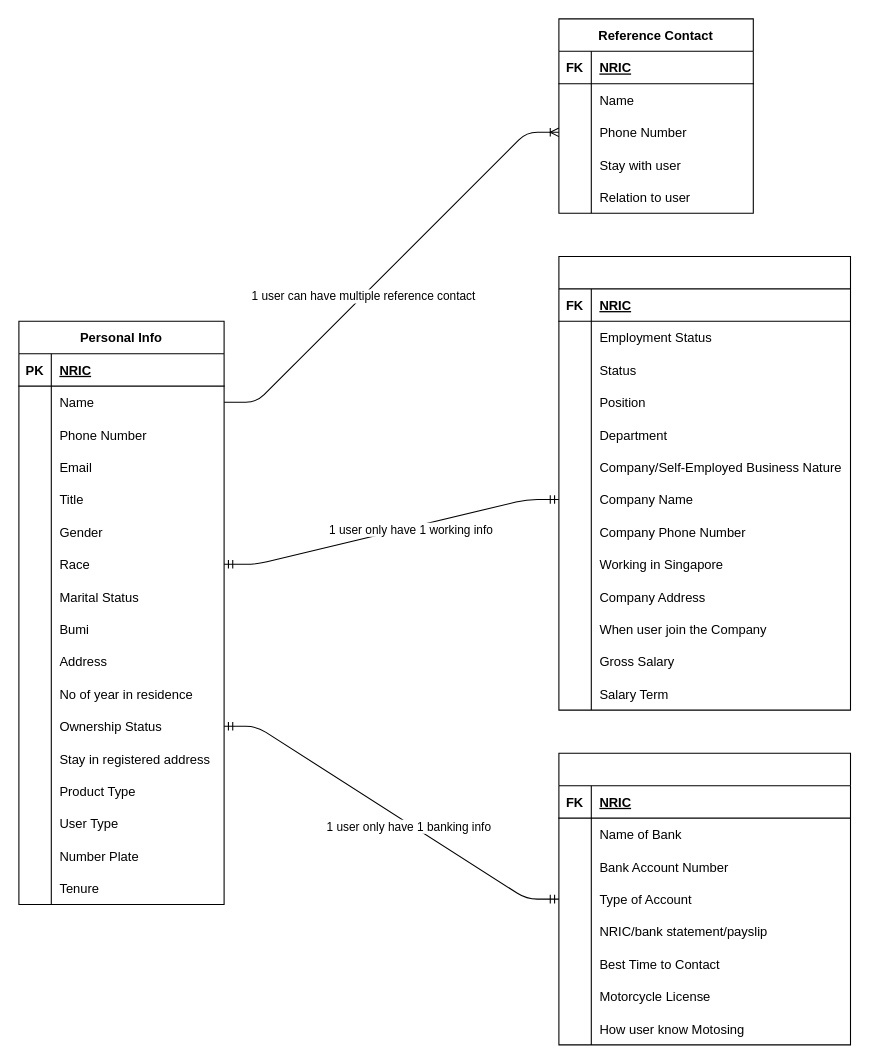
Image size: 869x1064. Some labels were removed from this diagram. Here are the shapes that lost their labels. From the top down, the box of each, then its label:
(558, 255, 850, 710): Working Info
(558, 752, 850, 1045): Banking Info
